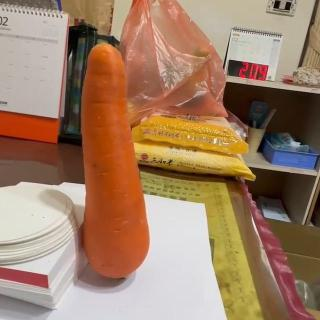carrot: (80, 42, 152, 280)
